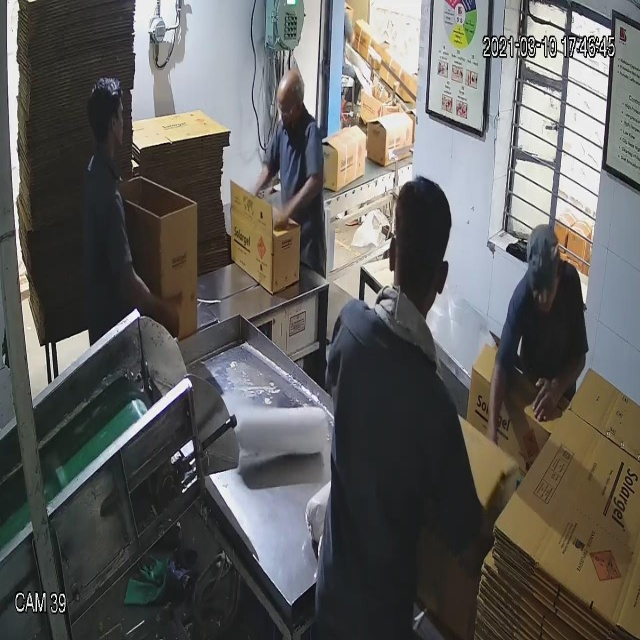Sin_guantes: (105, 241, 184, 337), (532, 352, 590, 426), (481, 348, 518, 460), (266, 172, 324, 233)
